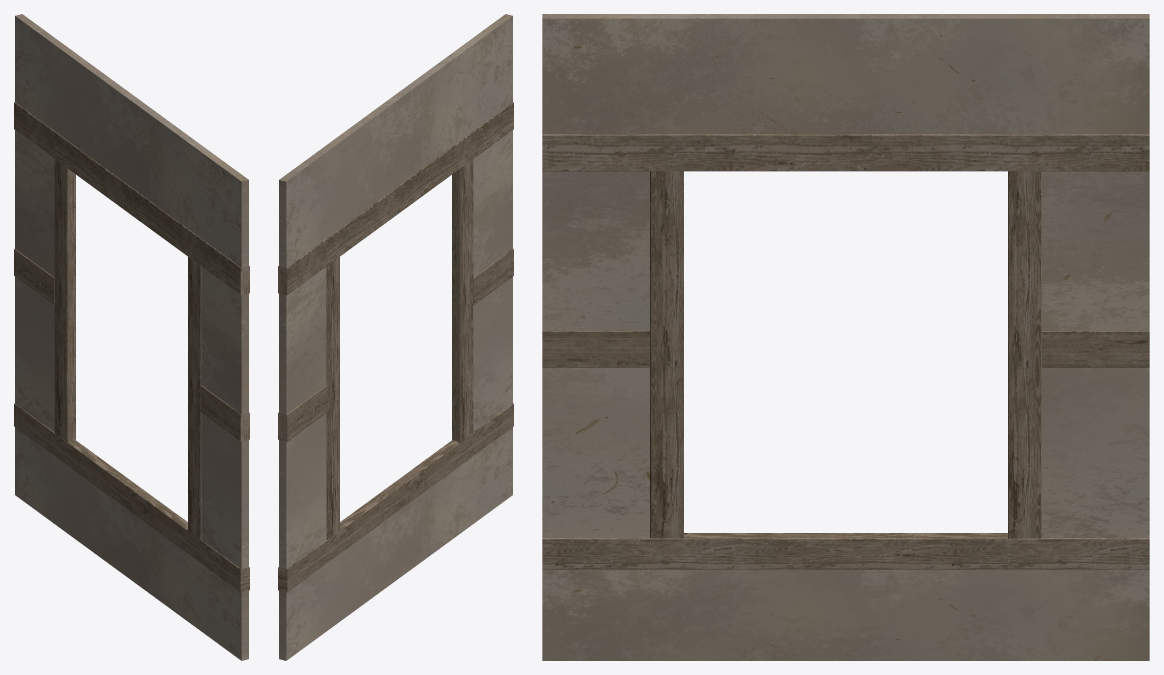
The model's file is SM_JWD_Wall02a.fbx.
The picture shows the model from 3 angles, left to right: view 1: azimuth 30°, elevation 25°; view 2: azimuth 150°, elevation 25°; view 3: azimuth 270°, elevation 25°; orthographic projection. The views are drawn at different scales.
Parts seen in each view (by area): view 1: SM_JWD_Wall02a; view 2: SM_JWD_Wall02a; view 3: SM_JWD_Wall02a.
Boxes of the visible parts, x1=… form: SM_JWD_Wall02a: x1=14, y1=14, x2=249, y2=660; SM_JWD_Wall02a: x1=278, y1=14, x2=513, y2=660; SM_JWD_Wall02a: x1=542, y1=14, x2=1149, y2=660.
Bounding box in the file's own units: 7 × 300 × 350.
Materials: 2 (2 with a texture image).
